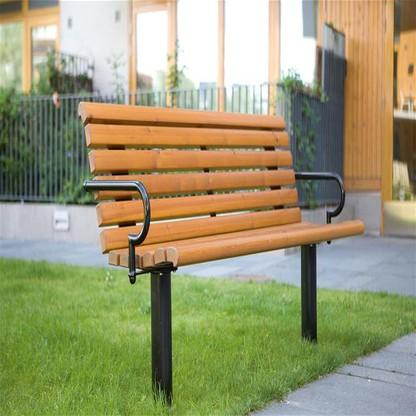obstacle: (65, 93, 355, 409)
